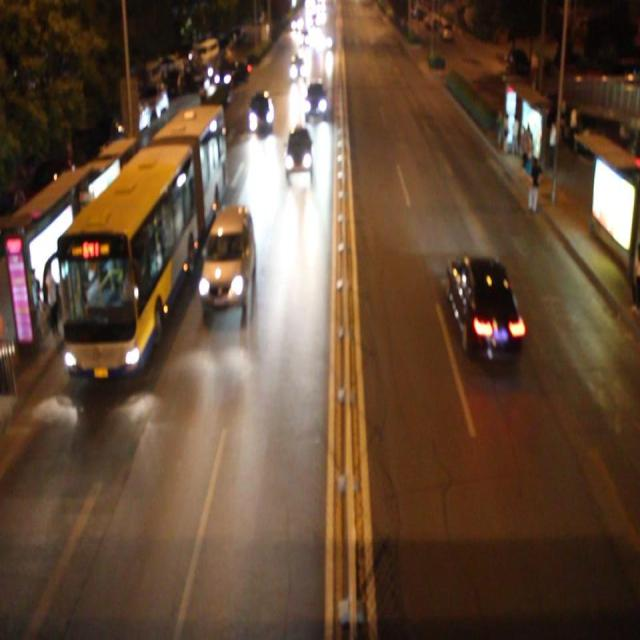car: (448, 254, 523, 360), (283, 126, 312, 179), (247, 91, 274, 137), (303, 80, 328, 121), (288, 53, 307, 83)
truck: (199, 202, 256, 312)
van: (54, 102, 219, 376)
